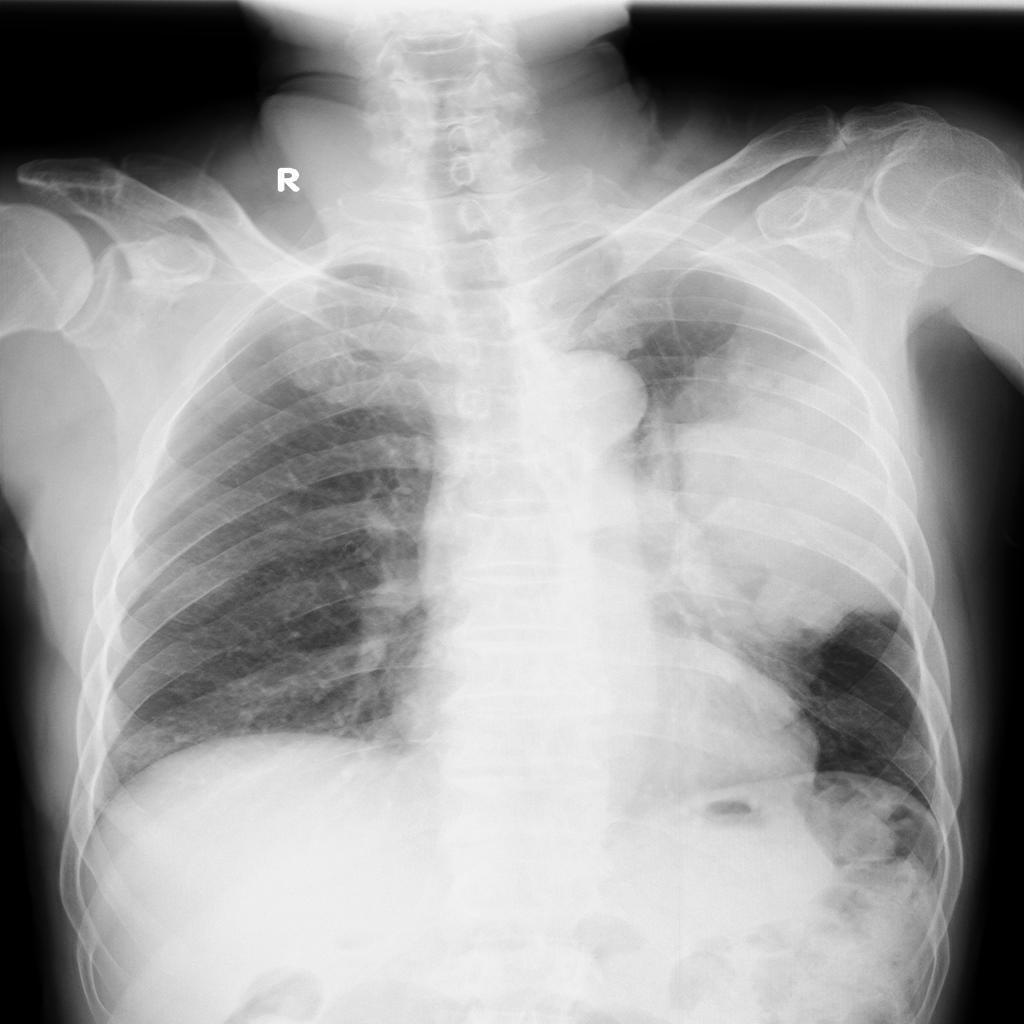Nodule: (666, 347, 916, 642)
